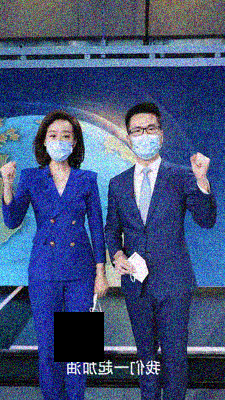with_mask: (129, 124, 162, 160), (44, 129, 73, 164)
